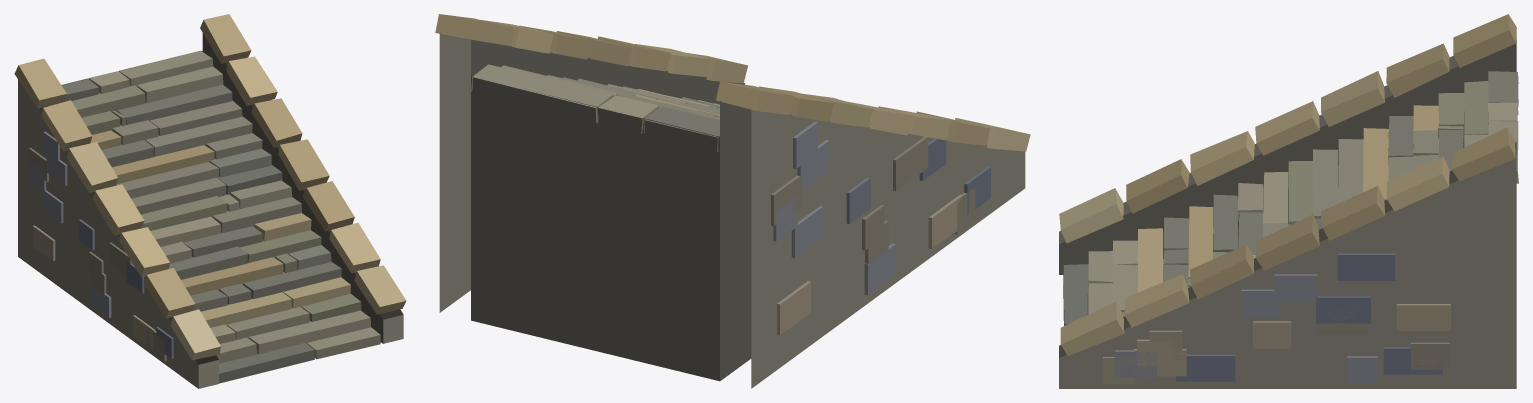
File: town_stairs.glb
3 views of the same model, side by side, from view 1: azimuth 30°, elevation 25°; view 2: azimuth 150°, elevation 25°; view 3: azimuth 270°, elevation 25° (orthographic). The views are drawn at different scales.
Visible parts, largest first — view 1: town_stairs; view 2: town_stairs; view 3: town_stairs.
Part boxes in pixels (x1=…): town_stairs: x1=14, y1=14, x2=406, y2=388; town_stairs: x1=435, y1=14, x2=1030, y2=388; town_stairs: x1=1059, y1=14, x2=1518, y2=388.
Bounding box in the file's own units: 4.15 × 3.67 × 6.13.
